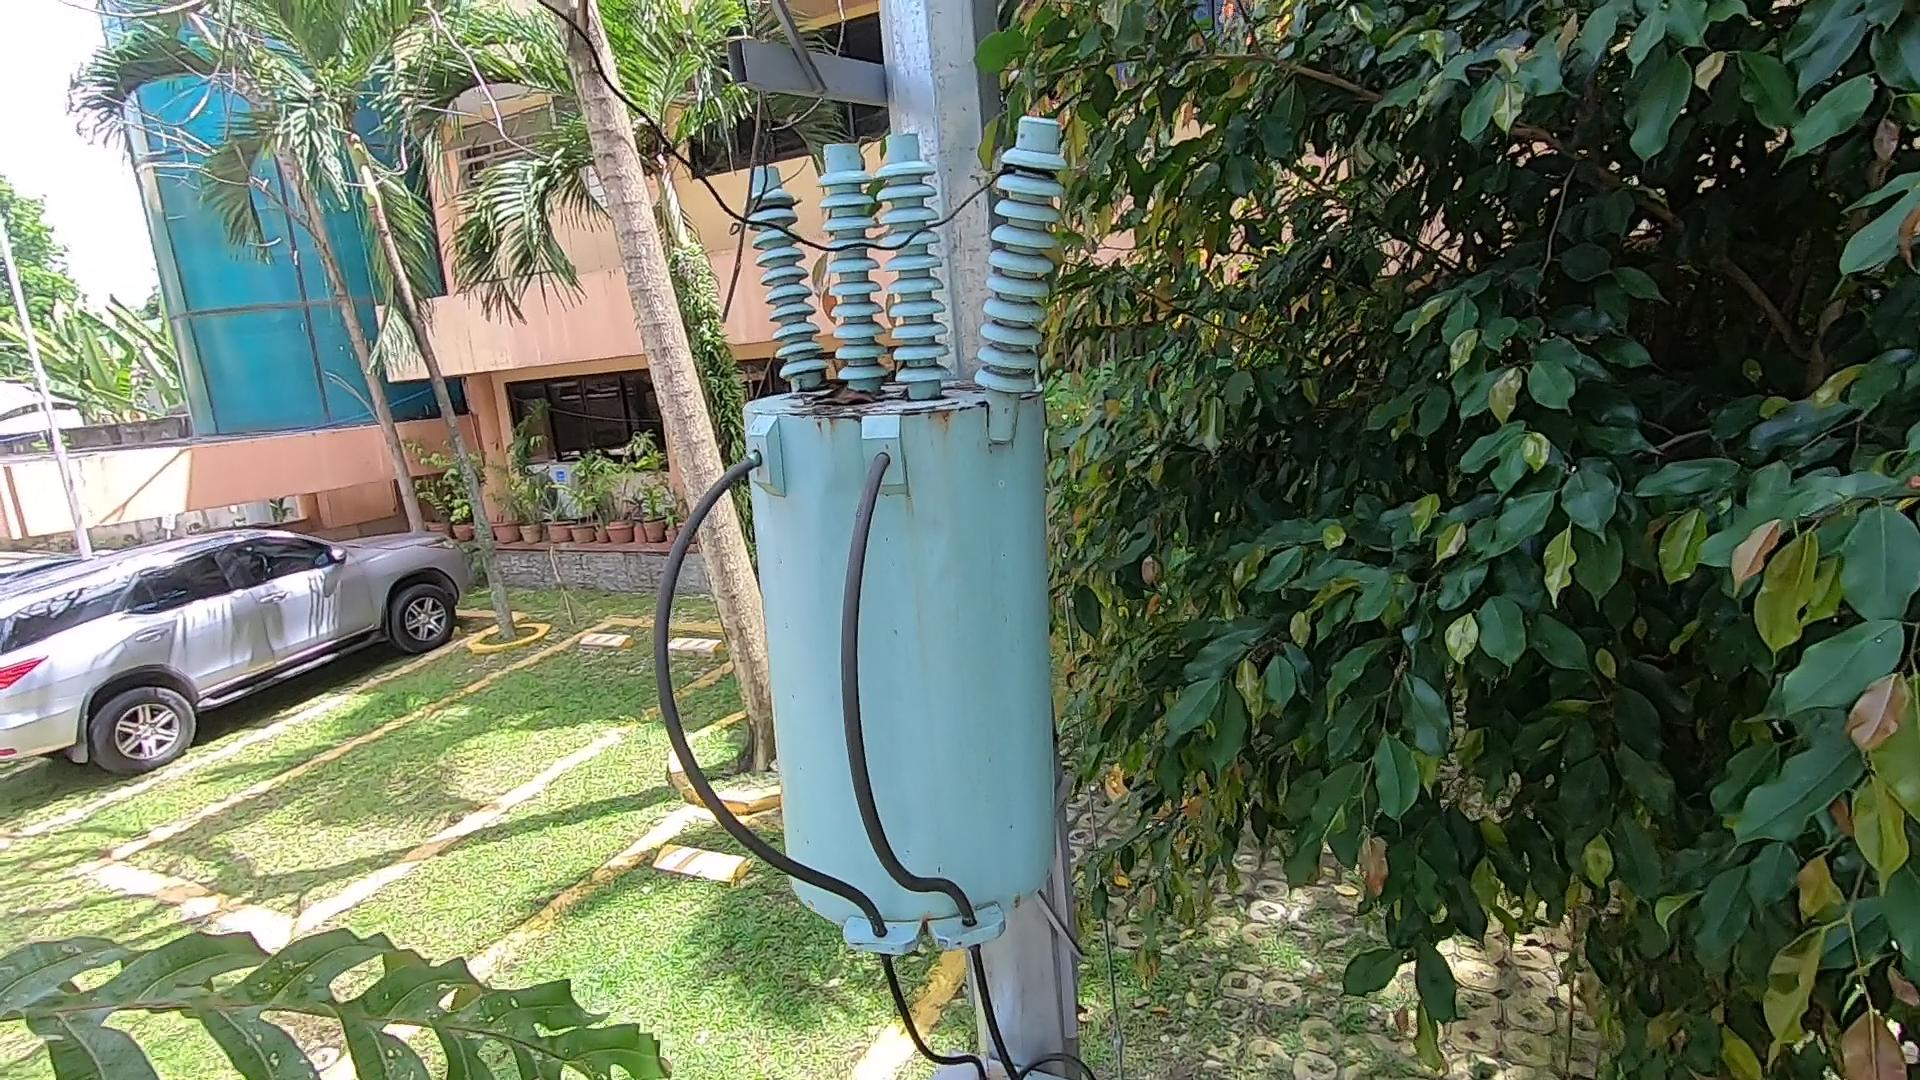leaf: (795, 363, 881, 415)
tree branch: (698, 3, 814, 327)
